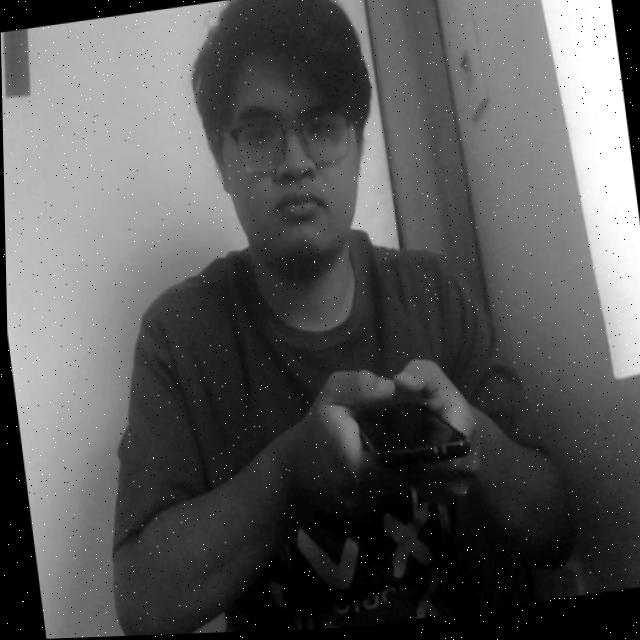phone: (321, 350, 478, 504)
